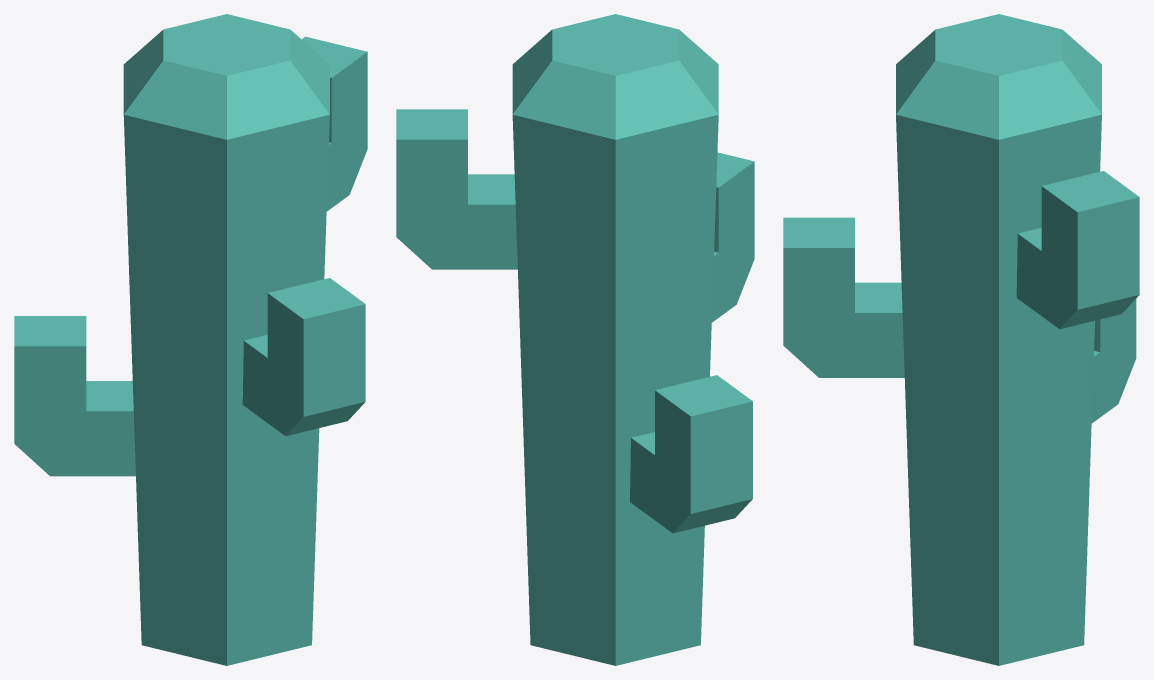
File: cactus_short.glb
The picture shows the model from 3 angles, left to right: view 1: azimuth 30°, elevation 25°; view 2: azimuth 150°, elevation 25°; view 3: azimuth 270°, elevation 25°; orthographic projection.
Visible parts, largest first — view 1: cactus_short; view 2: cactus_short; view 3: cactus_short.
Boxes of the visible parts, x1,y1,x2,y2 form: cactus_short: (14,14,367,665); cactus_short: (396,14,754,665); cactus_short: (783,14,1139,665).
Bounding box in the file's own units: 0.3417 × 0.533 × 0.2972.
